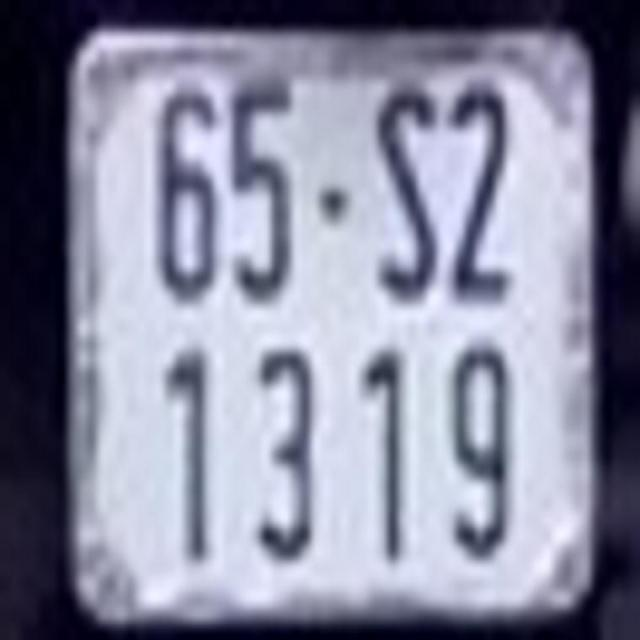1: (358, 338, 408, 561), (163, 345, 212, 569)
2: (452, 85, 512, 302)
3: (258, 344, 312, 559)
5: (229, 84, 294, 311)
6: (159, 89, 219, 297)
9: (454, 331, 509, 560)
S: (375, 81, 444, 297)
